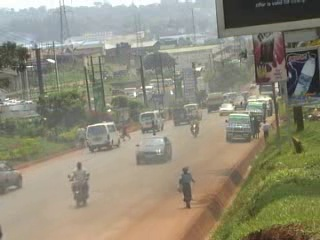Car: (132, 134, 173, 169), (0, 157, 26, 195), (168, 106, 193, 126), (216, 100, 236, 116)
Motorcycle: (66, 161, 93, 207), (186, 117, 202, 140)
